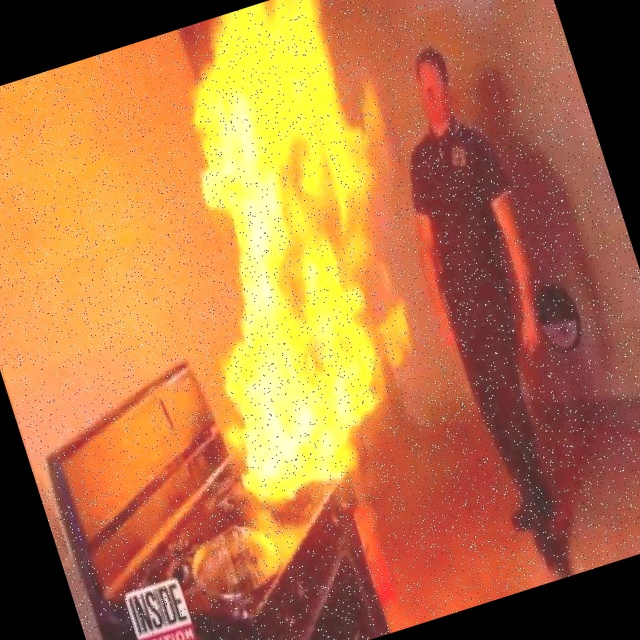fire: (60, 0, 483, 560)
